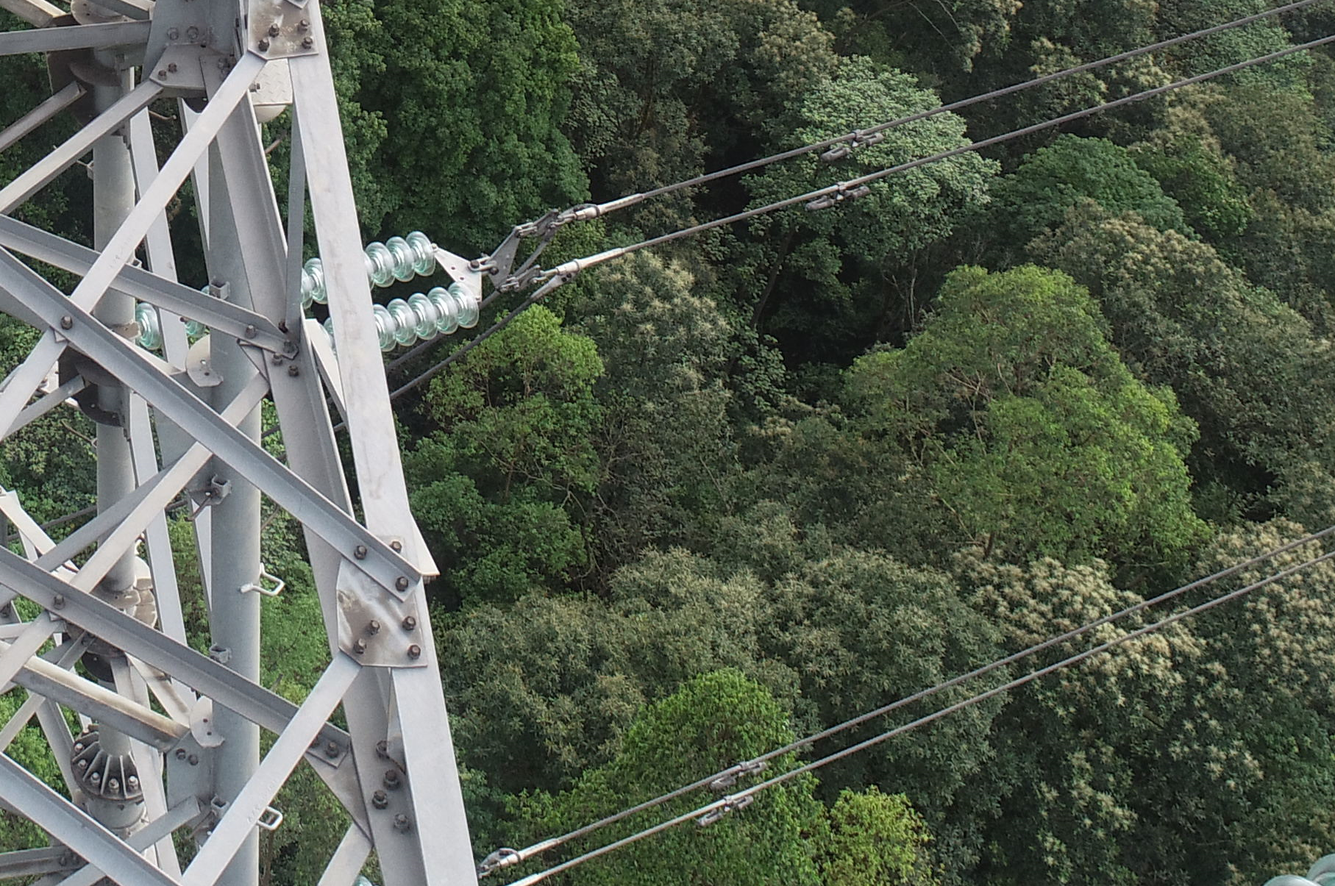damper: (803, 177, 871, 217), (822, 126, 885, 164), (697, 790, 755, 831), (708, 757, 769, 794)
